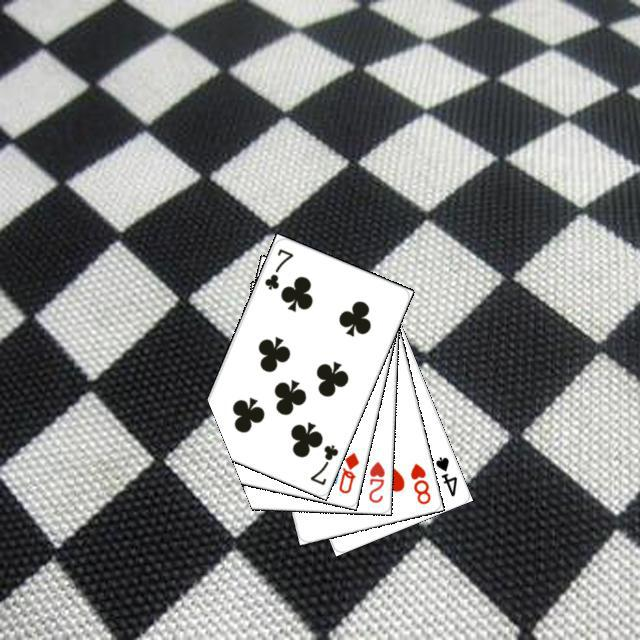2h: (364, 457, 386, 505)
4s: (430, 451, 459, 498)
7c: (260, 244, 295, 292), (305, 440, 340, 487)
8h: (405, 458, 432, 506)
Qd: (334, 448, 361, 495)
